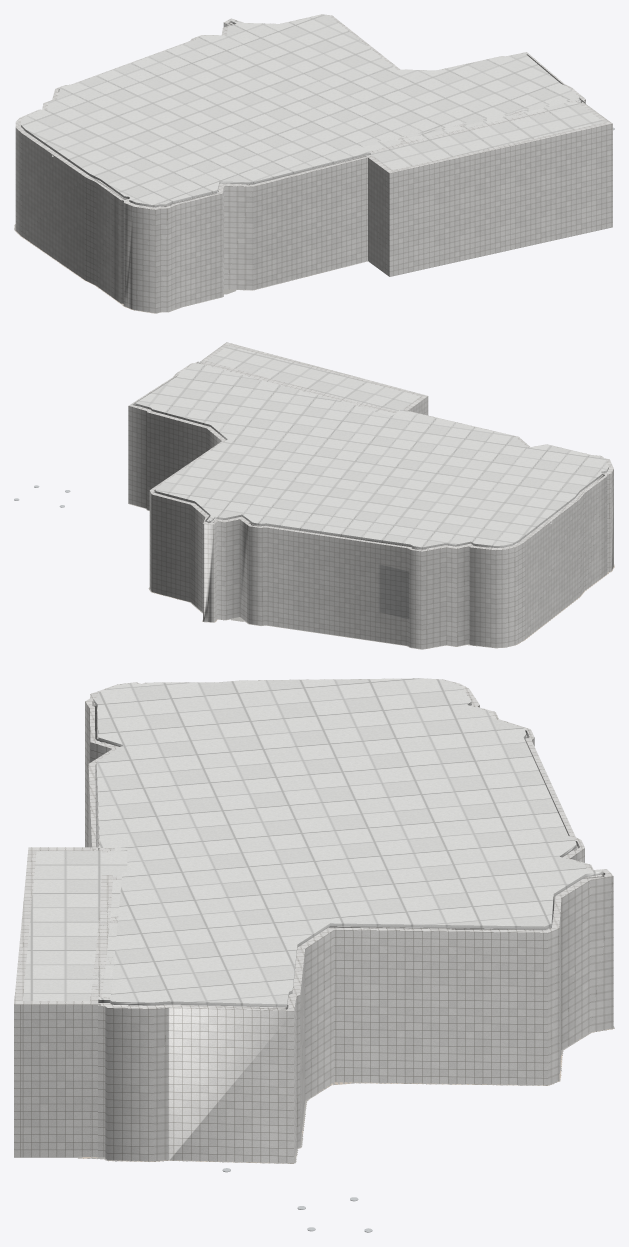
File: cocina_alta_d5c8c9d58aea.glb
The picture shows the model from 3 angles, top to bottom: view 1: azimuth 30°, elevation 25°; view 2: azimuth 150°, elevation 25°; view 3: azimuth 270°, elevation 25°; orthographic projection. The views are drawn at different scales.
Visible parts, largest first — view 1: Z_cocina_tile_w, Z_cocina_ceil; view 2: Z_cocina_ceil, Z_cocina_tile_w, GLASS_3, WALL_FOOTPRINT_LINE; view 3: Z_cocina_ceil, Z_cocina_tile_w, WALL_FOOTPRINT_LINE.
Part boxes in pixels (left/top/right/bottom): Z_cocina_tile_w: left=15, top=14, right=612, bottom=312; Z_cocina_ceil: left=21, top=14, right=604, bottom=207; Z_cocina_ceil: left=135, top=345, right=608, bottom=549; Z_cocina_tile_w: left=128, top=342, right=613, bottom=648; GLASS_3: left=380, top=565, right=408, bottom=618; WALL_FOOTPRINT_LINE: left=128, top=503, right=614, bottom=649; Z_cocina_ceil: left=22, top=678, right=603, bottom=1007; Z_cocina_tile_w: left=14, top=678, right=613, bottom=1163; WALL_FOOTPRINT_LINE: left=77, top=1026, right=614, bottom=1163.
Size of the model in its own units: 16.91 by 3.08 by 10.68.
29 materials, 4 textured.
